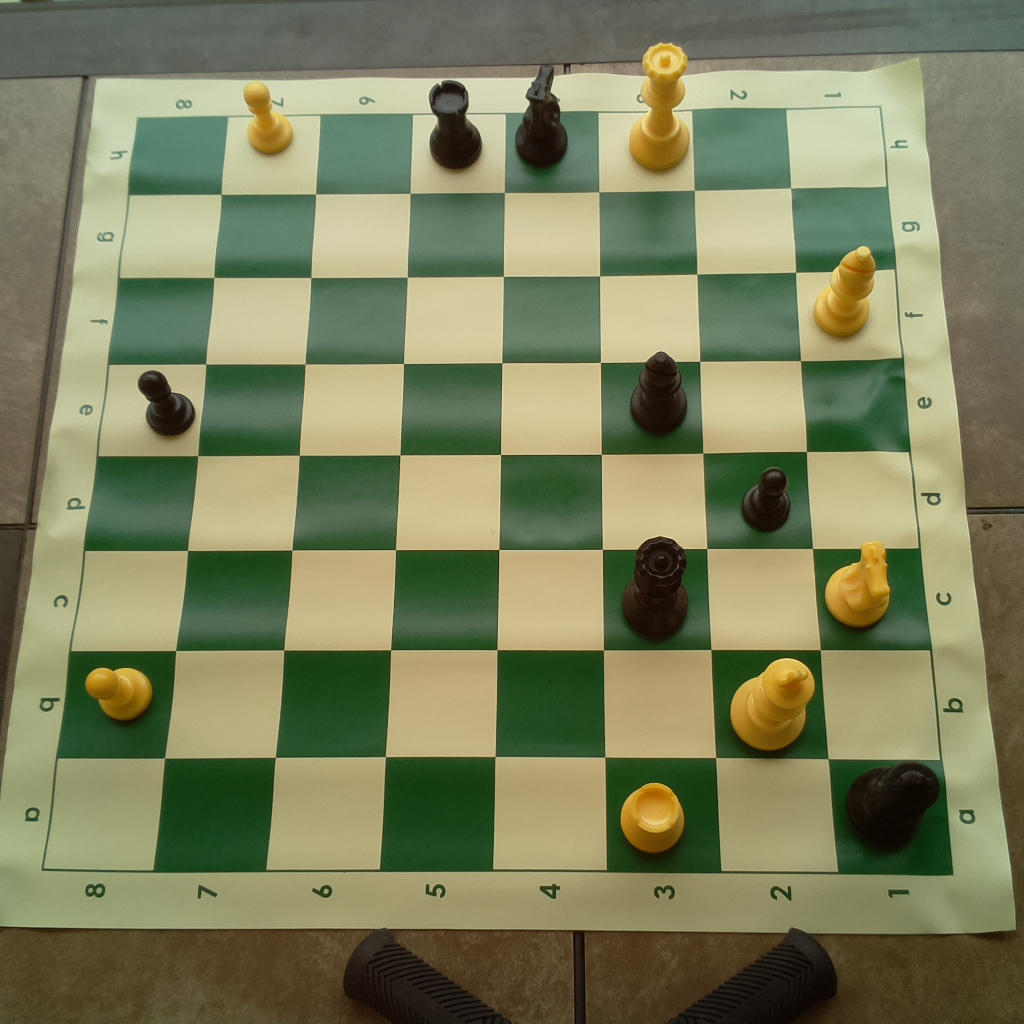black_bishop: (629, 347, 690, 434)
black_king: (842, 762, 944, 851)
black_knight: (507, 62, 575, 170)
black_pawn: (133, 364, 201, 438), (738, 458, 794, 536)
black_queen: (618, 535, 694, 643)
black_rook: (421, 79, 489, 173)
file_a: (42, 757, 955, 877)
file_b: (58, 652, 942, 761)
file_c: (71, 552, 936, 652)
file_d: (81, 449, 918, 551)
file_e: (98, 358, 912, 452)
file_f: (106, 269, 903, 358)
file_g: (119, 187, 894, 277)
file_h: (129, 106, 886, 195)
outline: (45, 109, 955, 877)
rank_1: (786, 105, 954, 877)
rank_2: (693, 109, 841, 873)
rank_3: (598, 108, 721, 873)
rank_4: (494, 113, 607, 871)
rank_5: (379, 114, 507, 873)
rank_6: (264, 114, 414, 869)
rank_7: (155, 115, 319, 870)
rank_8: (44, 118, 228, 870)
white_bishop: (811, 238, 880, 340)
white_king: (724, 651, 820, 751)
white_knight: (821, 535, 894, 634)
white_pawn: (85, 654, 153, 722), (240, 80, 298, 153)
white_queen: (625, 40, 694, 171)
white_rook: (612, 774, 692, 857)
